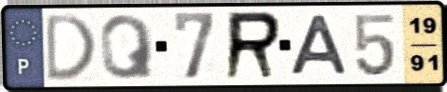5: (351, 12, 398, 78)
7: (171, 10, 218, 83)
A: (287, 13, 351, 78)
D: (44, 12, 98, 84)
Q: (97, 13, 157, 82)
R: (222, 9, 285, 83)
